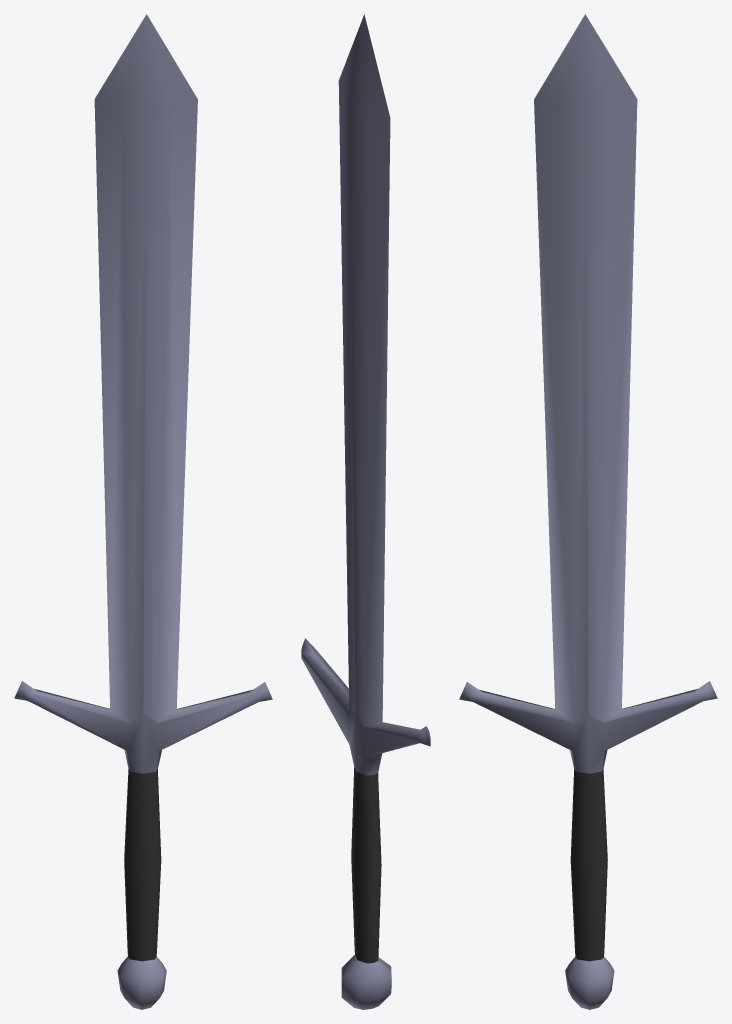
Rendered from mithril_2hd.glb.
The picture shows the model from 3 angles, left to right: view 1: azimuth 90°, elevation 25°; view 2: azimuth 210°, elevation 25°; view 3: azimuth 270°, elevation 25°; orthographic projection.
Parts seen in each view (by area): view 1: steel2hd sword; view 2: steel2hd sword; view 3: steel2hd sword.
Boxes of the visible parts, box(x1,y1,x2,y2) form: steel2hd sword: box(14, 14, 272, 1009); steel2hd sword: box(301, 14, 430, 1009); steel2hd sword: box(459, 14, 717, 1009).
Size of the model in its own units: 0.0473 by 0.8927 by 0.2115.
